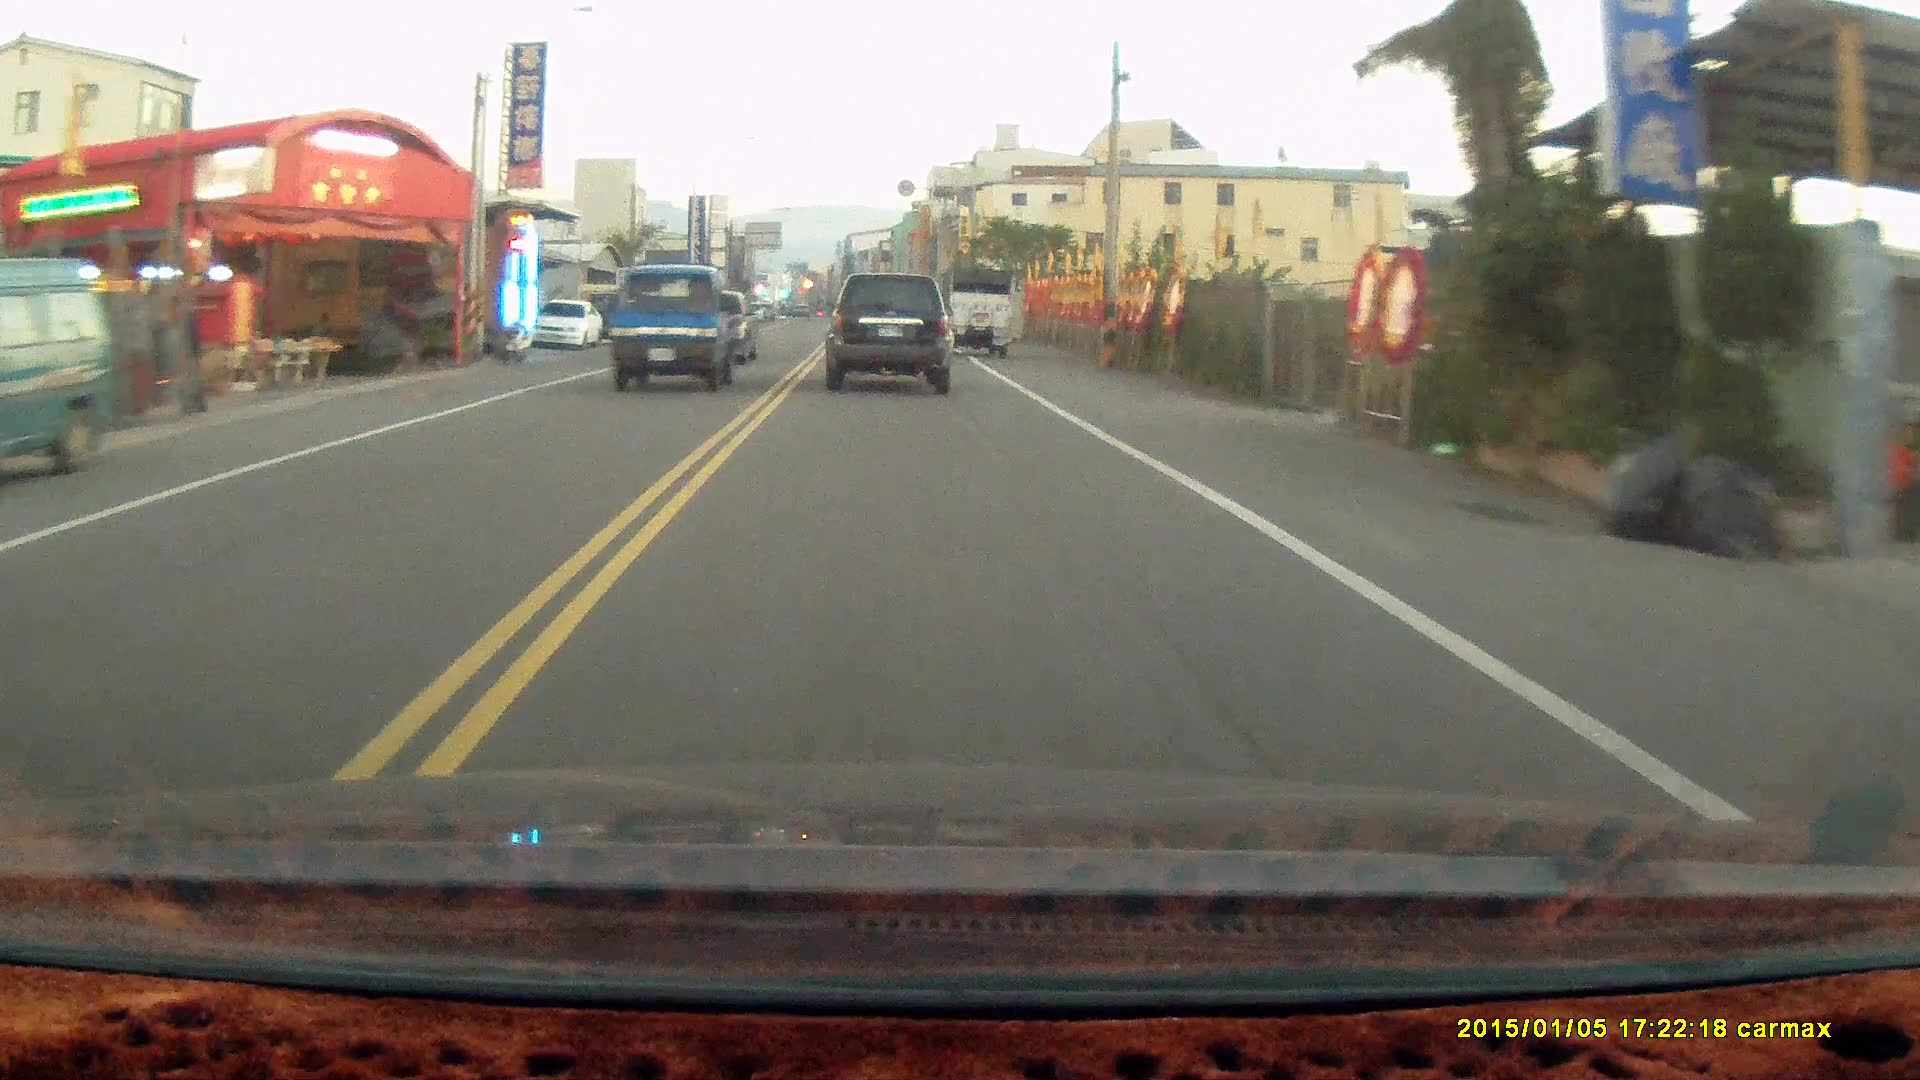vehicle: (1, 256, 123, 487), (605, 264, 760, 392), (828, 265, 963, 392), (938, 264, 1019, 359), (535, 298, 603, 351)
